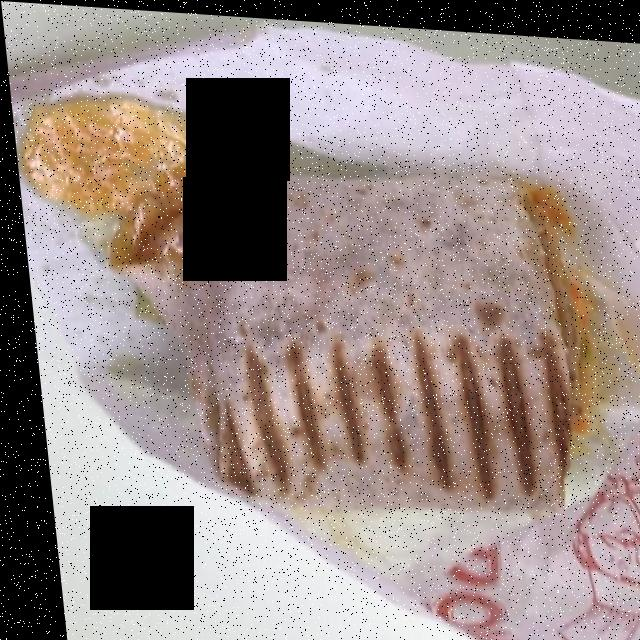fajita-bread-only: (121, 165, 597, 550)
sauce-cocktail: (22, 93, 240, 238)
